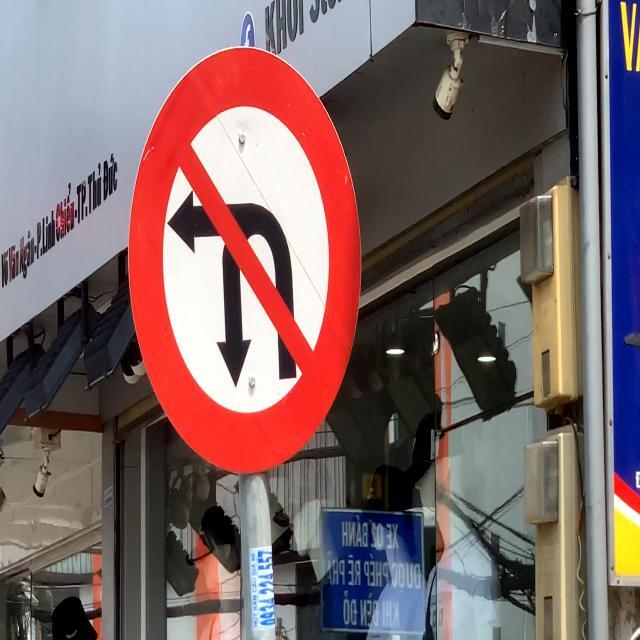P-124c: (129, 44, 359, 468)
